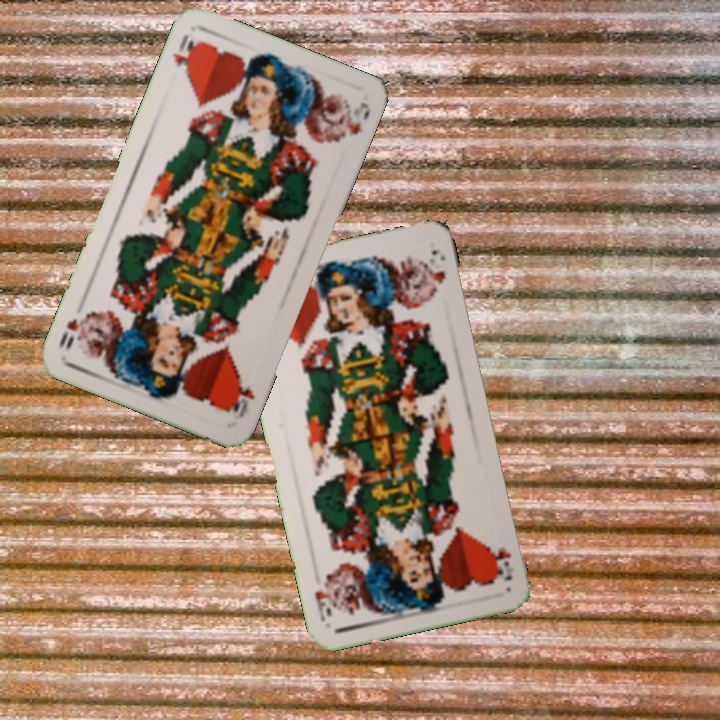HO: (168, 30, 202, 80), (224, 375, 258, 420), (486, 541, 517, 583)
